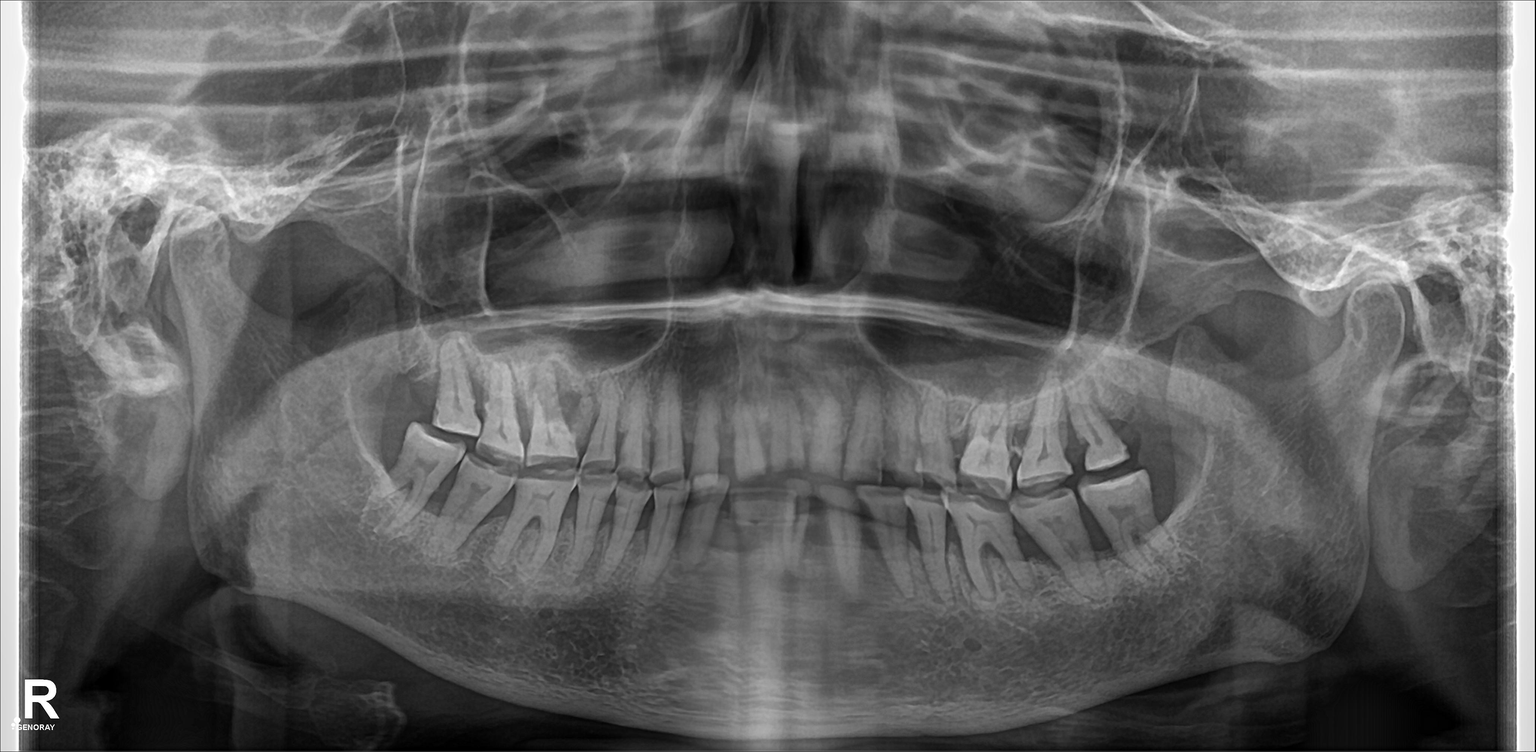Missing Tooth: (1108, 359, 1149, 426), (393, 350, 435, 414), (358, 419, 393, 486), (1158, 452, 1192, 514)
